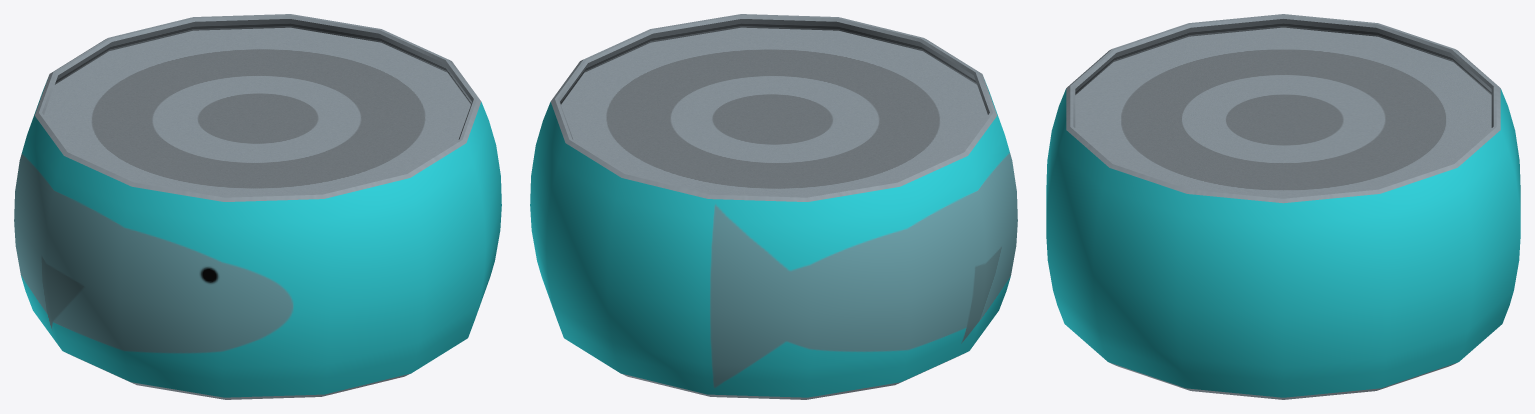
File: tunafunk.FBX
3 renders of one model, left to right at view 1: azimuth 30°, elevation 25°; view 2: azimuth 150°, elevation 25°; view 3: azimuth 270°, elevation 25°, orthographic.
Visible parts, largest first — view 1: Cylinder001; view 2: Cylinder001; view 3: Cylinder001.
Boxes of the visible parts, box(x1,y1,x2,y2) form: Cylinder001: box(14, 14, 501, 399); Cylinder001: box(530, 14, 1017, 399); Cylinder001: box(1046, 14, 1520, 399).
Bounding box in the file's own units: 12.85 × 5.92 × 12.53.
